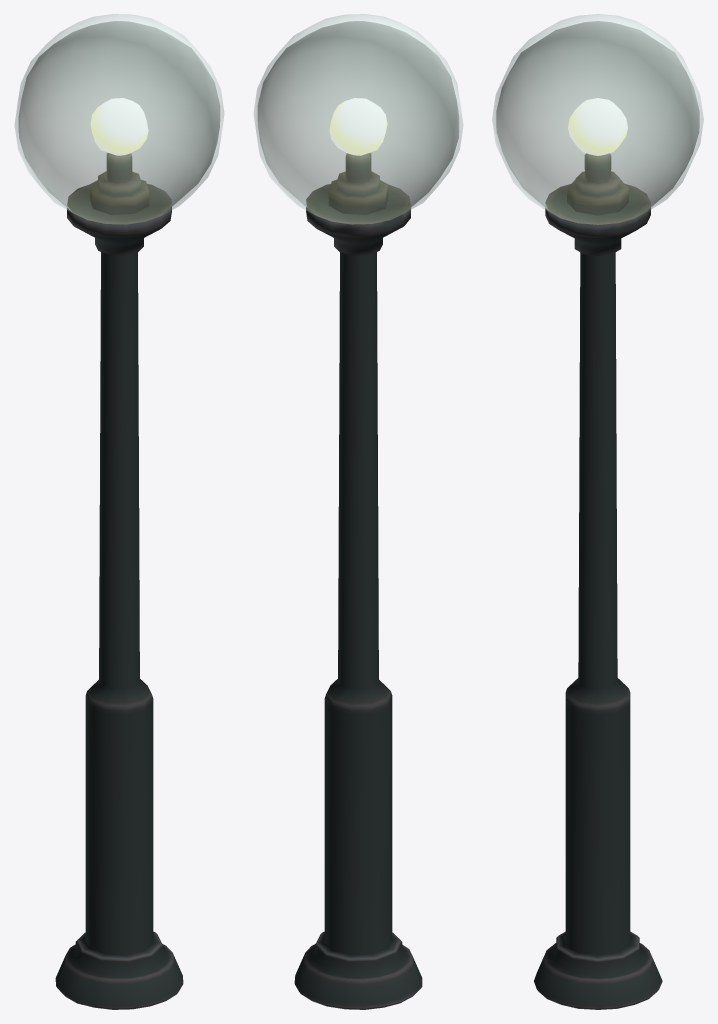
The model's file is streetlamp.glb.
3 views of the same model, side by side, from view 1: azimuth 30°, elevation 25°; view 2: azimuth 150°, elevation 25°; view 3: azimuth 270°, elevation 25° (orthographic).
Parts seen in each view (by area): view 1: Body_low__mReBody, GlassF_low__mGlassF, GlassR_low__mGlassR; view 2: Body_low__mReBody, GlassF_low__mGlassF, GlassR_low__mGlassR; view 3: Body_low__mReBody, GlassF_low__mGlassF, GlassR_low__mGlassR.
Part boxes in pixels (bbox=[...]): Body_low__mReBody: bbox=[55, 98, 183, 1009]; GlassF_low__mGlassF: bbox=[14, 14, 224, 224]; GlassR_low__mGlassR: bbox=[18, 21, 220, 212]; Body_low__mReBody: bbox=[294, 98, 422, 1009]; GlassF_low__mGlassF: bbox=[253, 14, 463, 224]; GlassR_low__mGlassR: bbox=[257, 21, 459, 212]; Body_low__mReBody: bbox=[534, 98, 662, 1009]; GlassF_low__mGlassF: bbox=[492, 14, 703, 224]; GlassR_low__mGlassR: bbox=[496, 21, 699, 210].
Bounding box in the file's own units: 0.5341 × 2.67 × 0.5341.
3 materials, 1 textured.
